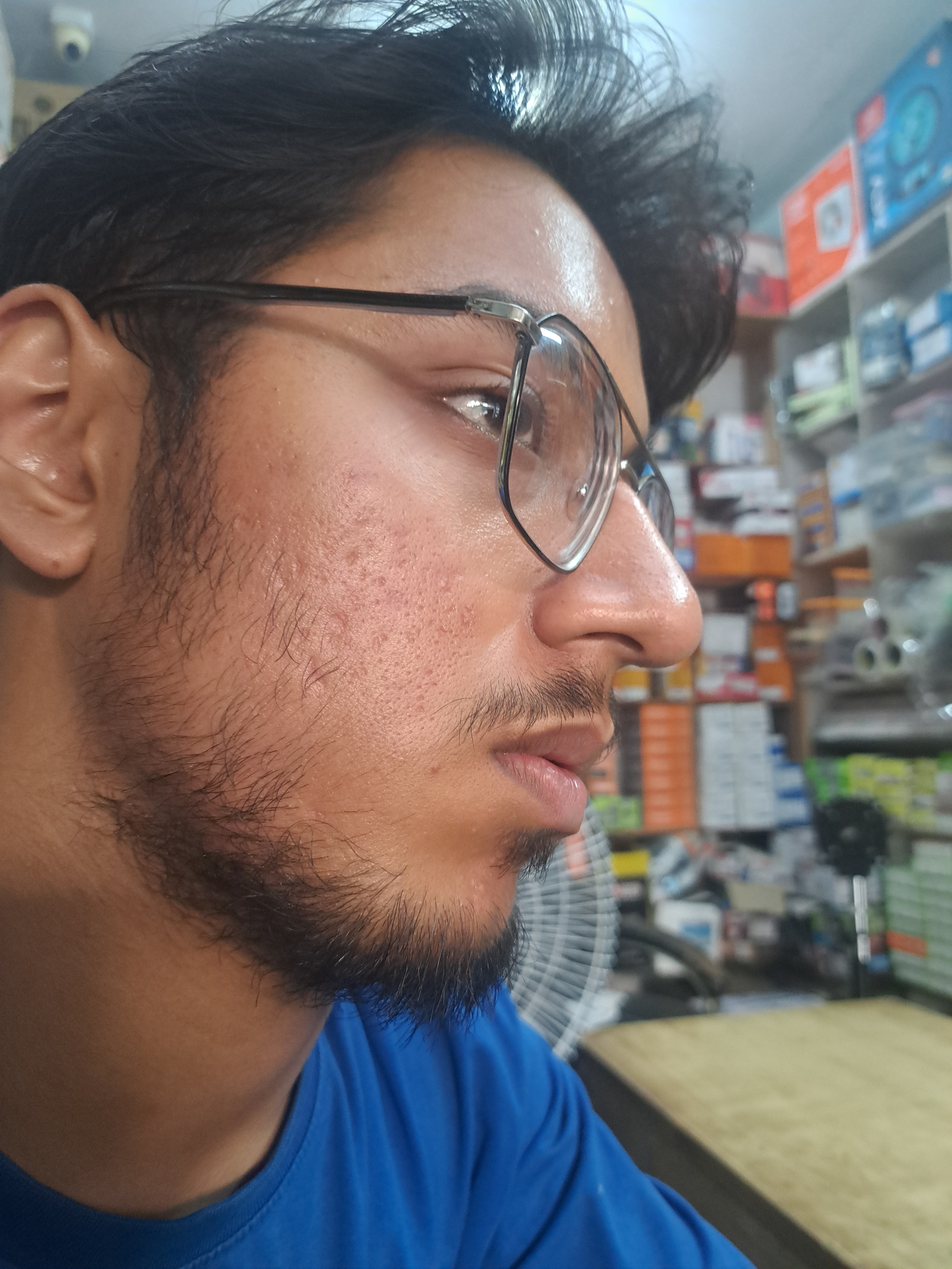closed_comedone: (423, 759, 445, 777)
